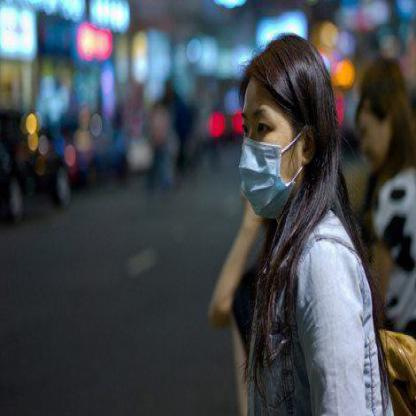Wearing_Mask: (233, 52, 314, 246)
